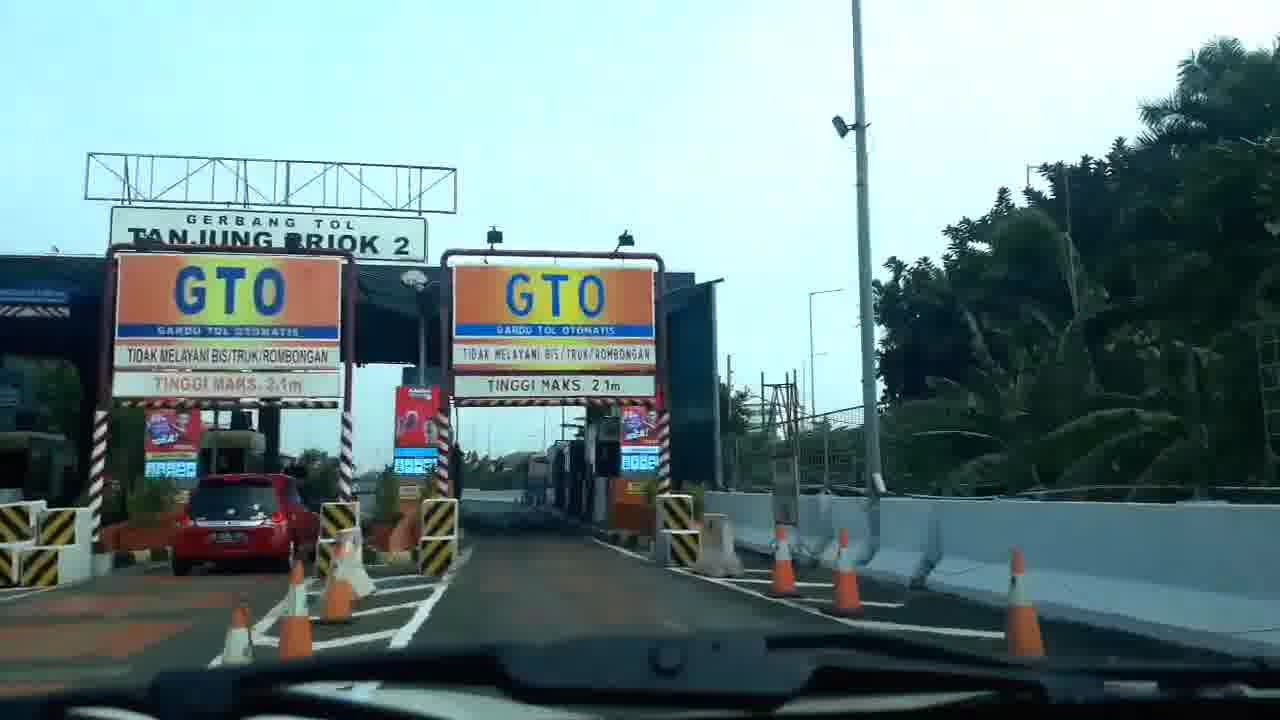plate_positive: (211, 531, 243, 544)
